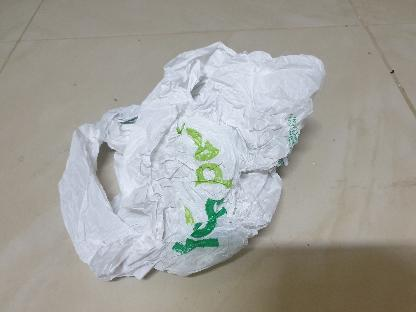Plastic Bag: (57, 40, 327, 280)
